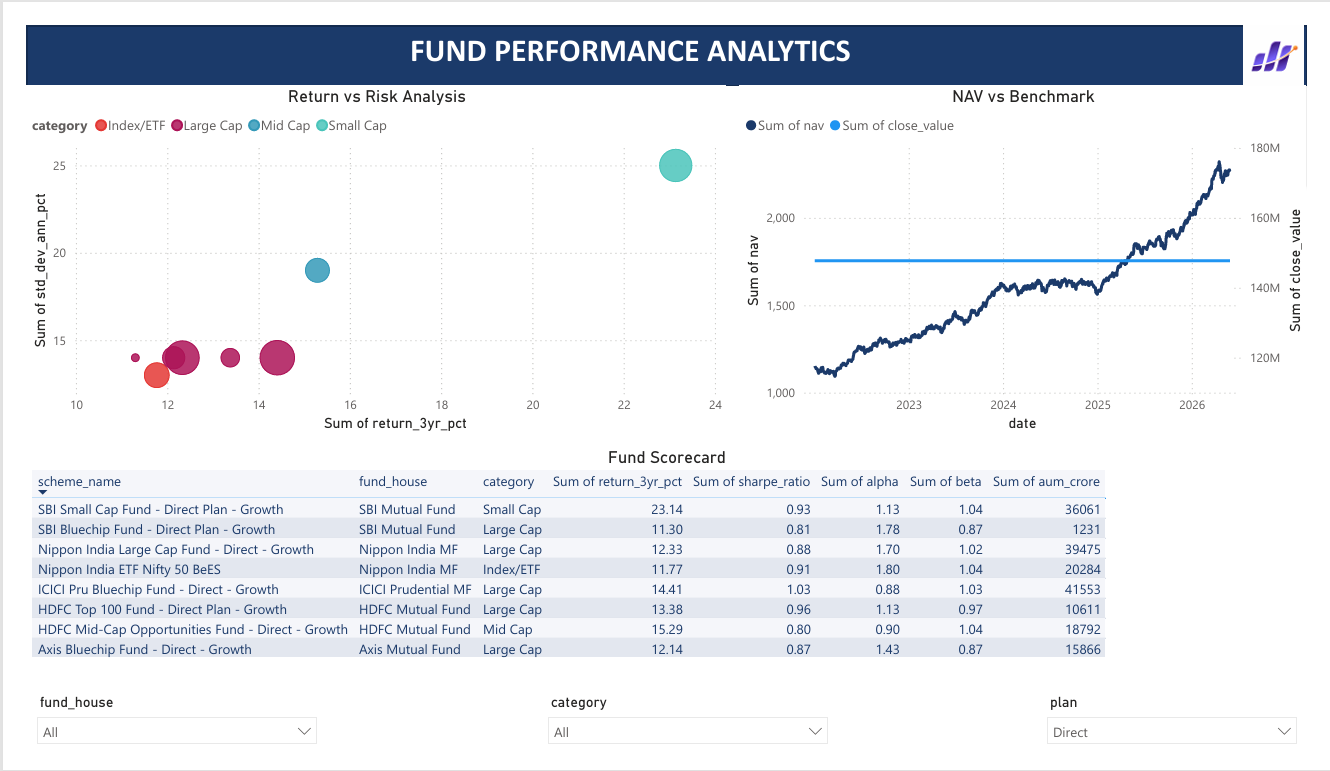

This screenshot's page, from the dashboard's own definition file:
{"tool":"powerbi","page":{"name":"Fund Perfomance","canvas":[1280,720],"ordinal":1},"visuals":[{"type":"slicer","fields":{"Values":["01_fund_master_clean.fund_house"]},"box":[0,663.1,300,56.6],"z":0},{"type":"slicer","fields":{"Values":["01_fund_master_clean.category"]},"box":[511.2,663.1,300,56.6],"z":1000},{"type":"shape","box":[0,0,1280,60],"z":2000},{"type":"textbox","box":[171,0,872,60],"z":3000},{"type":"scatterChart","title":"Return vs Risk Analysis","fields":{"X":["Sum(07_scheme_performance_clean.return_3yr_pct)"],"Y":["Sum(07_scheme_performance_clean.std_dev_ann_pct)"],"Series":["07_scheme_performance_clean.category"],"Size":["Sum(07_scheme_performance_clean.aum_crore)"],"Category":["07_scheme_performance_clean.scheme_name"]},"box":[0,60.4,699.9,349.9],"z":4000},{"type":"tableEx","title":"Fund Scorecard","fields":{"Values":["07_scheme_performance_clean.scheme_name","07_scheme_performance_clean.fund_house","07_scheme_performance_clean.category","Sum(07_scheme_performance_clean.return_3yr_pct)","Sum(07_scheme_performance_clean.sharpe_ratio)","Sum(07_scheme_performance_clean.alpha)","Sum(07_scheme_performance_clean.beta)","Sum(07_scheme_performance_clean.aum_crore)"]},"box":[0,420.7,1280,233.9],"z":5000},{"type":"lineChart","title":"NAV vs Benchmark","fields":{"Category":["02_nav_history_clean.date"],"Y":["Sum(02_nav_history_clean.nav)"],"Y2":["Sum(10_benchmark_indices_clean.close_value)"]},"box":[713.1,60.4,566.9,349.9],"z":6000},{"type":"slicer","fields":{"Values":["07_scheme_performance_clean.plan"]},"box":[1010.2,663.1,269.8,56.6],"z":7000},{"type":"image","box":[1215,0,65,61],"z":8000}]}

Visuals, with their boxes in screenshot pixels (x1, y1, x2, y2), scaled from the page's 1280x720 canvas onto the 1330x771 screenshot:
slicer - 01_fund_master_clean.fund_house: x1=0, y1=710, x2=312, y2=770
slicer - 01_fund_master_clean.category: x1=531, y1=710, x2=843, y2=770
shape: x1=0, y1=0, x2=1329, y2=64
textbox: x1=178, y1=0, x2=1084, y2=64
"Return vs Risk Analysis" scatterChart: x1=0, y1=65, x2=727, y2=439
"Fund Scorecard" tableEx: x1=0, y1=450, x2=1329, y2=701
"NAV vs Benchmark" lineChart: x1=741, y1=65, x2=1329, y2=439
slicer - 07_scheme_performance_clean.plan: x1=1050, y1=710, x2=1329, y2=770
image: x1=1262, y1=0, x2=1329, y2=65
